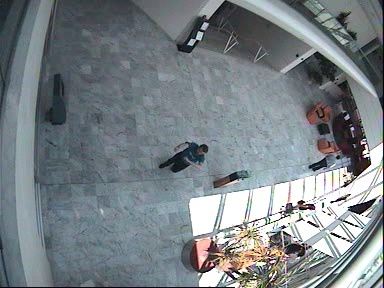person: (159, 141, 208, 173), (307, 153, 341, 171), (279, 200, 315, 214)
